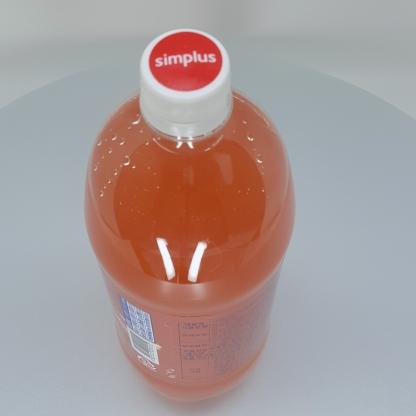--------------: (84, 27, 296, 405)
